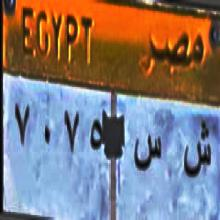0: (39, 111, 56, 160)
5: (88, 117, 103, 157)
7: (10, 98, 32, 152), (62, 108, 81, 158)
seen: (132, 124, 162, 181)
sheen: (179, 116, 213, 189)
